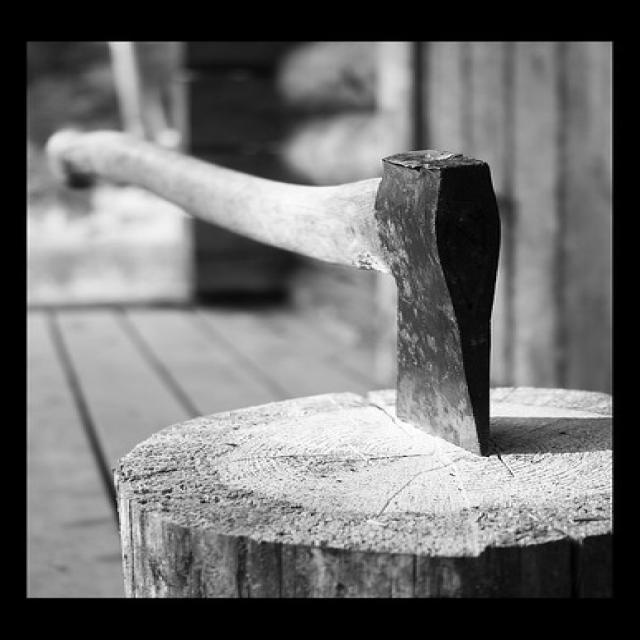Axe: (46, 130, 500, 454)
